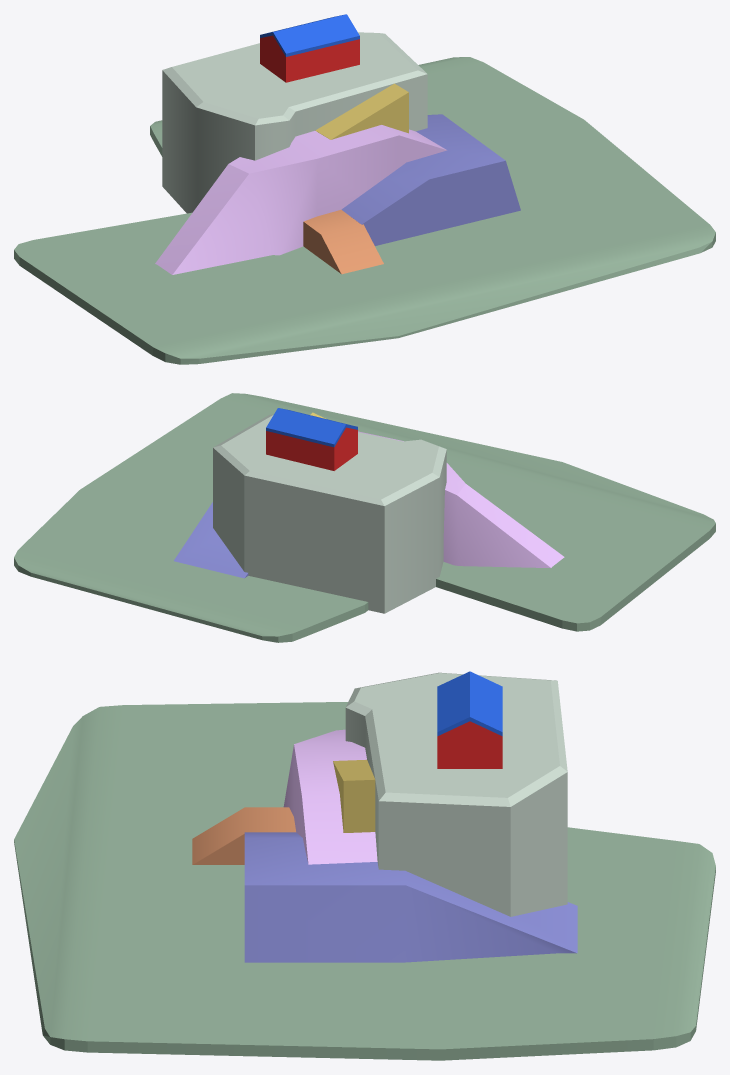
Rendered from changjing.FBX.
The picture shows the model from 3 angles, top to bottom: view 1: azimuth 30°, elevation 25°; view 2: azimuth 150°, elevation 25°; view 3: azimuth 270°, elevation 25°; orthographic projection. The views are drawn at different scales.
Visible parts, largest first — view 1: test; view 2: test; view 3: test.
Part boxes in pixels (x1,y1,x2,y2): test: (14,14,715,364); test: (14,393,715,642); test: (14,671,715,1060).
Bounding box in the file's own units: 531 × 145 × 451.
1 material, 1 textured.
